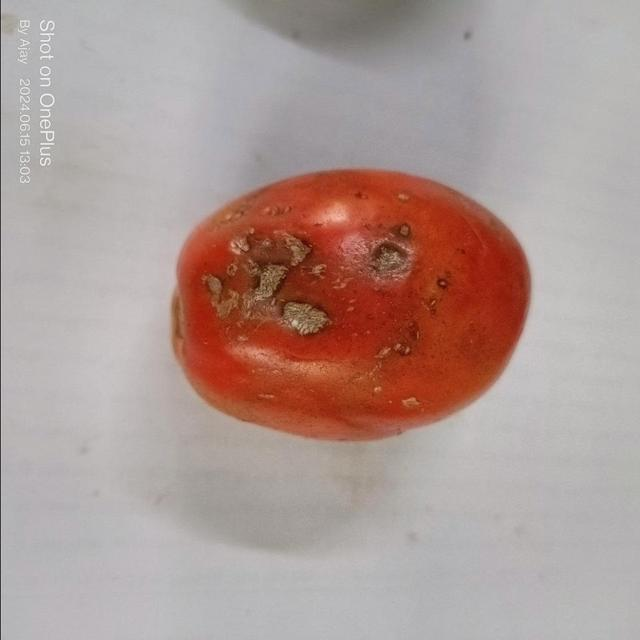Bacterial Spot Fruit: (8, 5, 295, 268)
